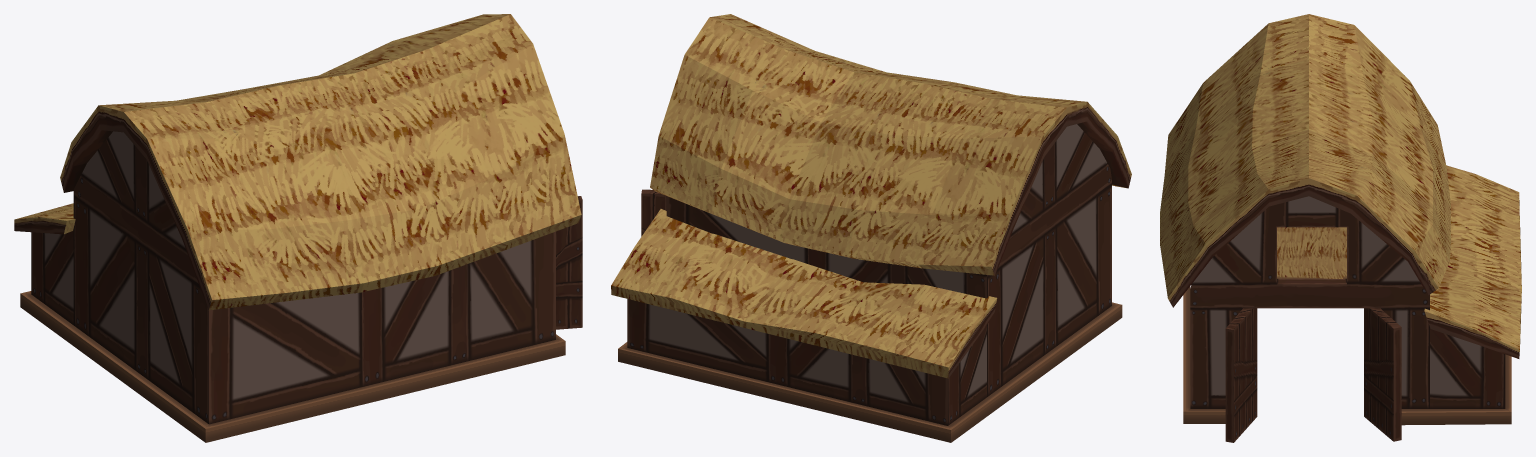
File: barn.glb
3 views of the same model, side by side, from view 1: azimuth 30°, elevation 25°; view 2: azimuth 150°, elevation 25°; view 3: azimuth 270°, elevation 25° (orthographic). The views are drawn at different scales.
Visible parts, largest first — view 1: Cube.002, Cube.003; view 2: Cube.002, Cube.003; view 3: Cube.002, Cube.003.
Boxes of the visible parts, <box> form: Cube.002: <box>14,14,581,310</box>; Cube.003: <box>20,131,582,442</box>; Cube.002: <box>611,14,1131,378</box>; Cube.003: <box>618,124,1122,442</box>; Cube.002: <box>1160,14,1521,358</box>; Cube.003: <box>1183,196,1511,442</box>.
Bounding box in the file's own units: 641 × 421 × 546.
2 materials, 2 textured.
